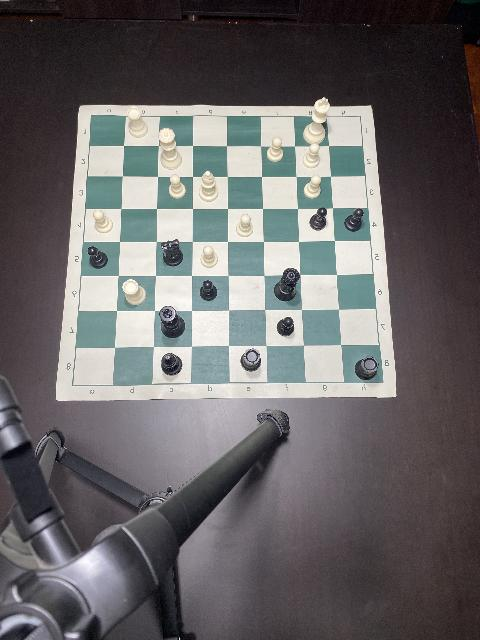black-bishop: (162, 353, 184, 377)
black-king: (159, 306, 185, 338)
black-knight: (161, 240, 183, 266)
black-pawn: (88, 246, 108, 268), (344, 208, 362, 232), (310, 207, 328, 230), (276, 317, 294, 337), (200, 281, 216, 301)
black-queen: (274, 266, 300, 302)
black-rook: (354, 358, 378, 380), (240, 348, 260, 372)
board: (56, 105, 398, 401)
white-bishop: (200, 172, 218, 202)
white-king: (304, 96, 330, 144)
white-knight: (159, 128, 181, 168)
white-pawn: (93, 209, 113, 233), (304, 176, 322, 200), (266, 136, 284, 160), (302, 144, 320, 168), (200, 245, 218, 267), (168, 176, 186, 198), (236, 214, 253, 236)
white-rook: (126, 106, 147, 138), (122, 280, 146, 306)
